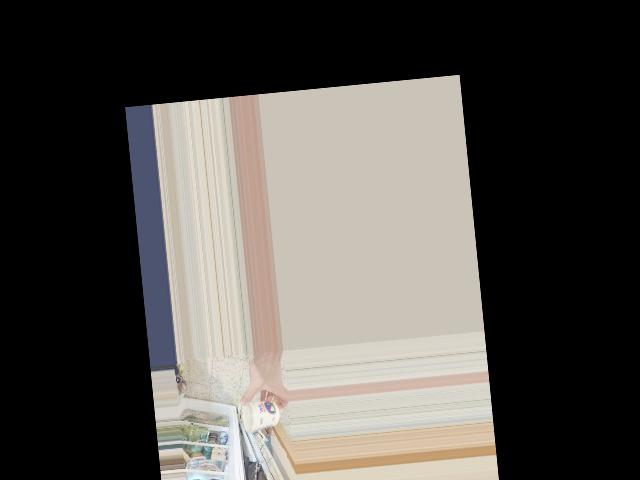cotage: (243, 396, 281, 431)
